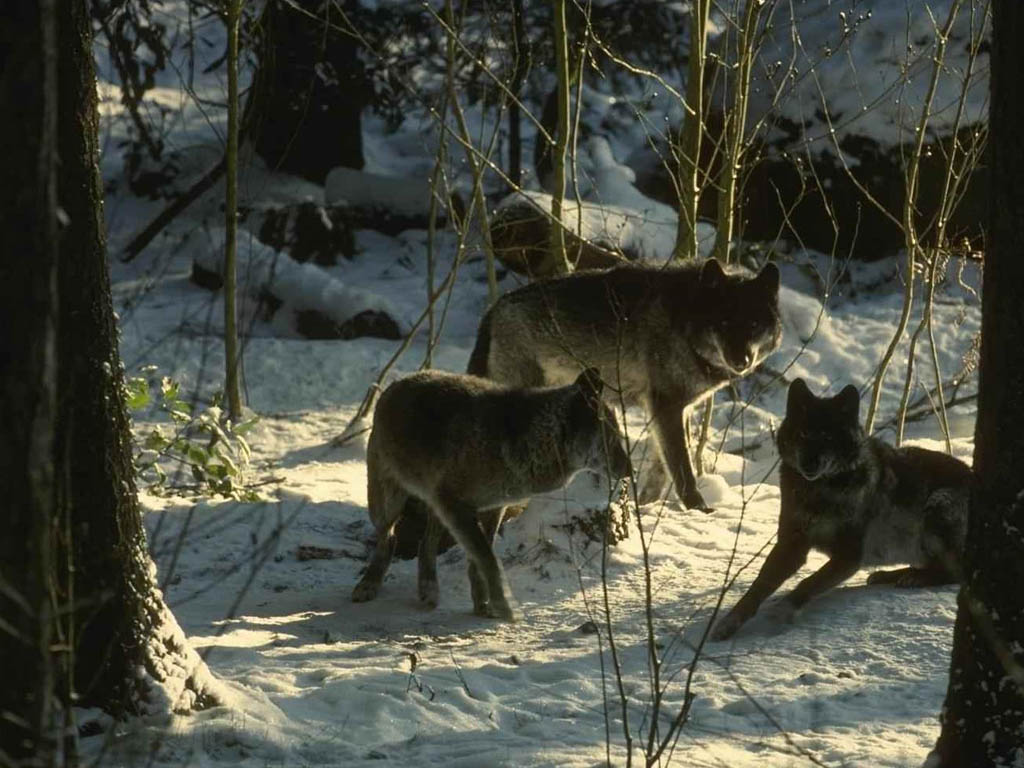wolf: (410, 239, 805, 517), (315, 359, 647, 617), (700, 373, 987, 651)
